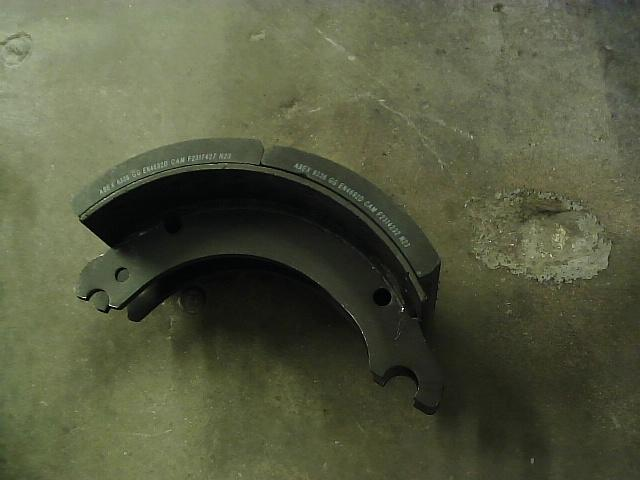brake-shoes: (69, 137, 448, 413)
